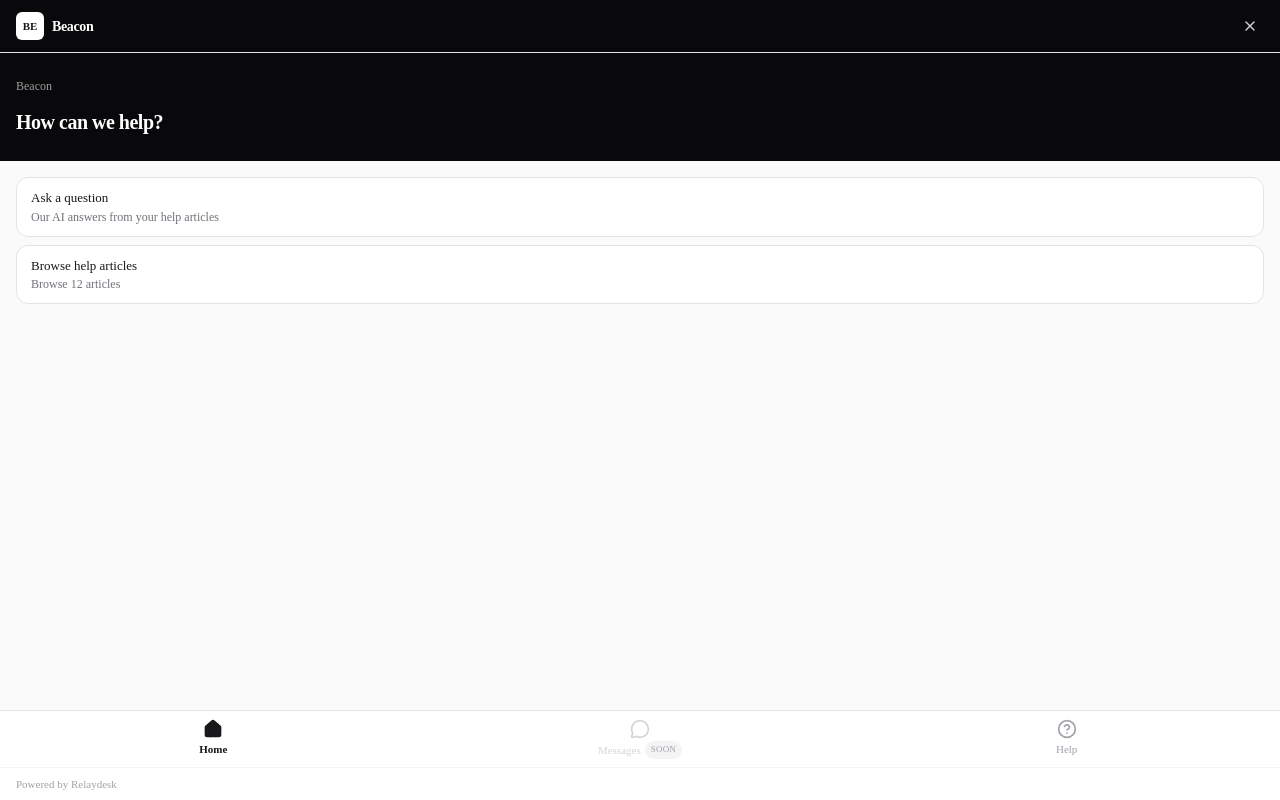
Test case: the panel's Home screen › shows Ask a question once back on Home, when AI is configured
Step 1. Click the button "Ask a question Our AI answers from your help articles" → [70, 198], box [16,177,1264,236]
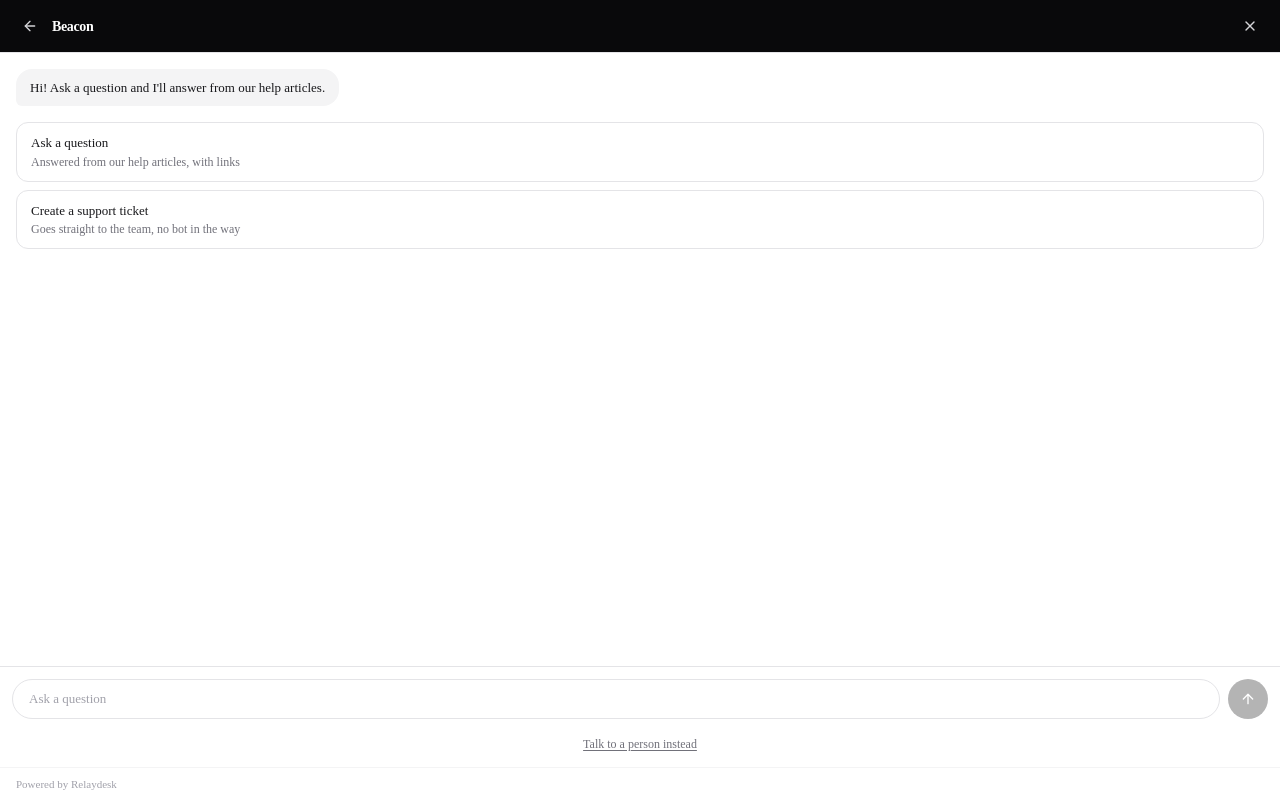
Step 2. Type "Hi" into the field with placeholder "Ask a question" → [616, 698], box [12,678,1220,718]
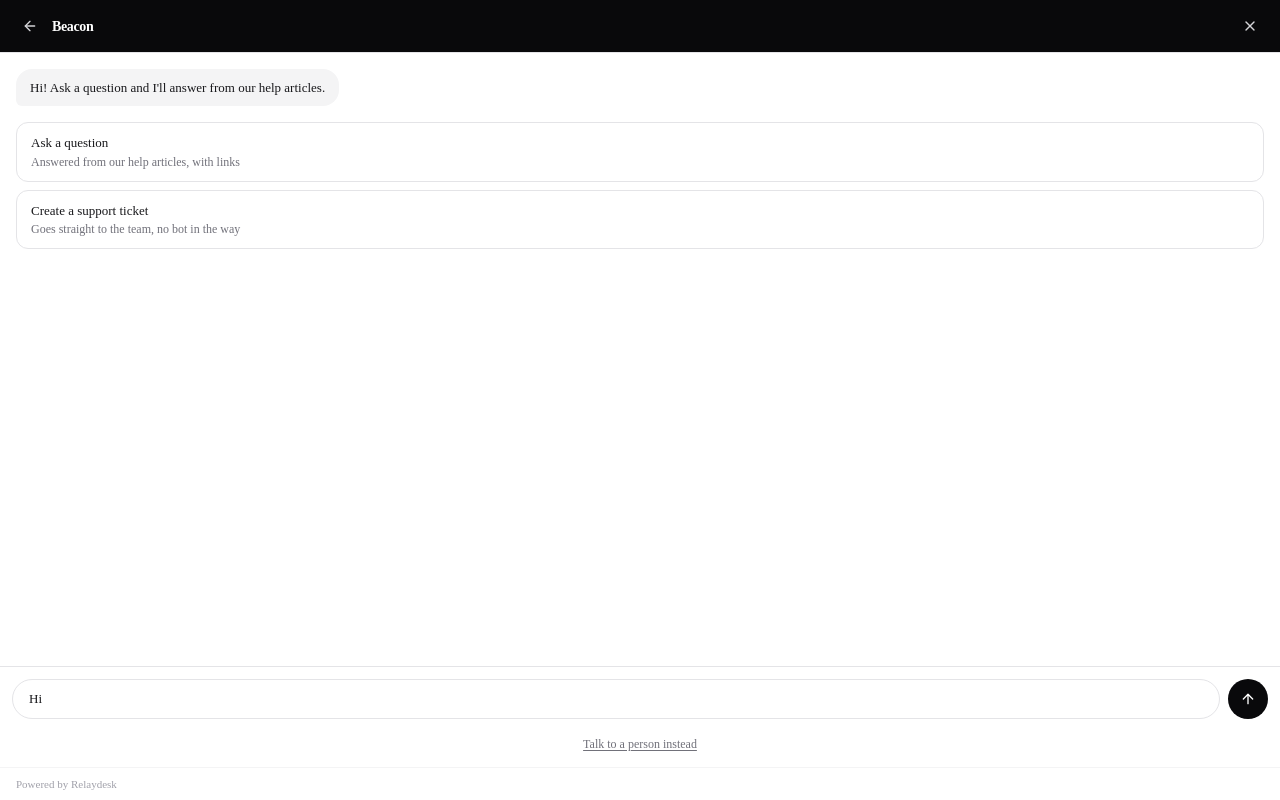
Step 3. Click the button named "Ask" → [1248, 698], box [1228,678,1268,718]
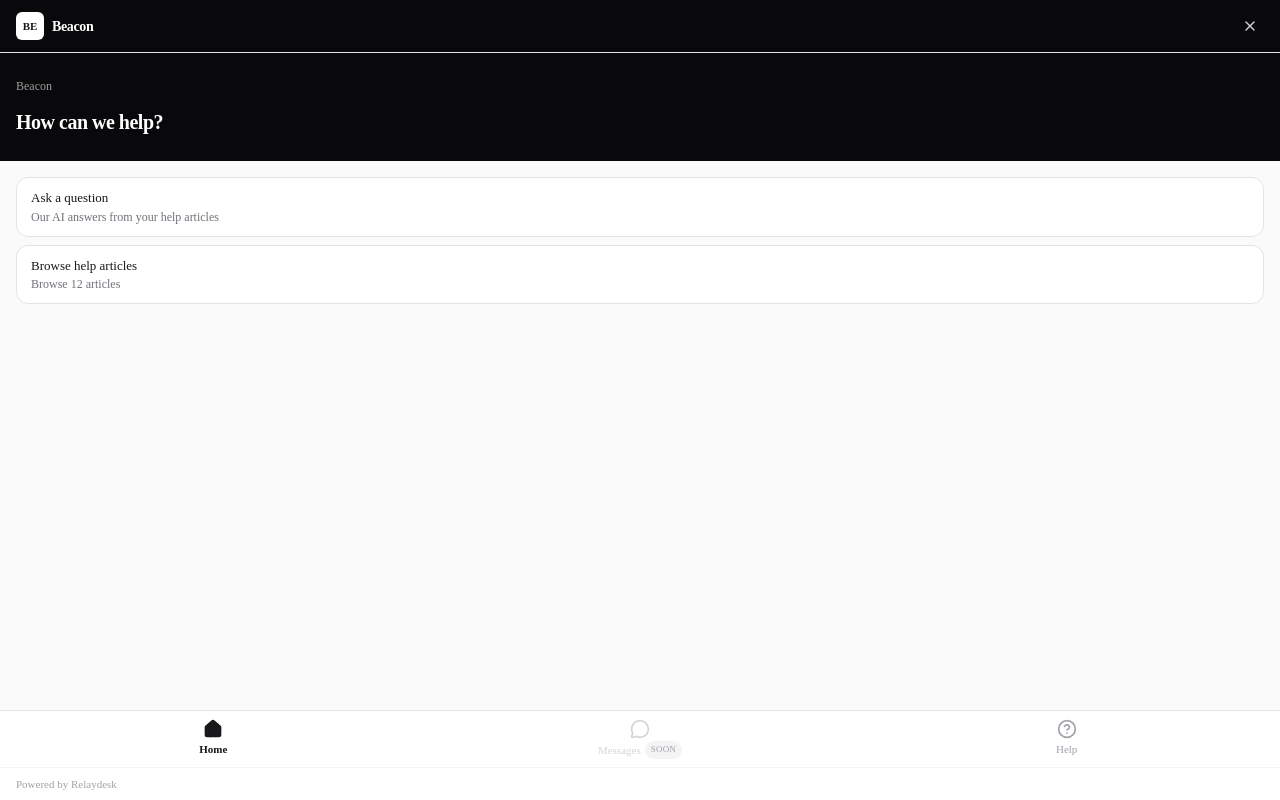
Step 4. Click the button "Ask a question Our AI answers from your help articles" → [70, 198], box [16,177,1264,236]
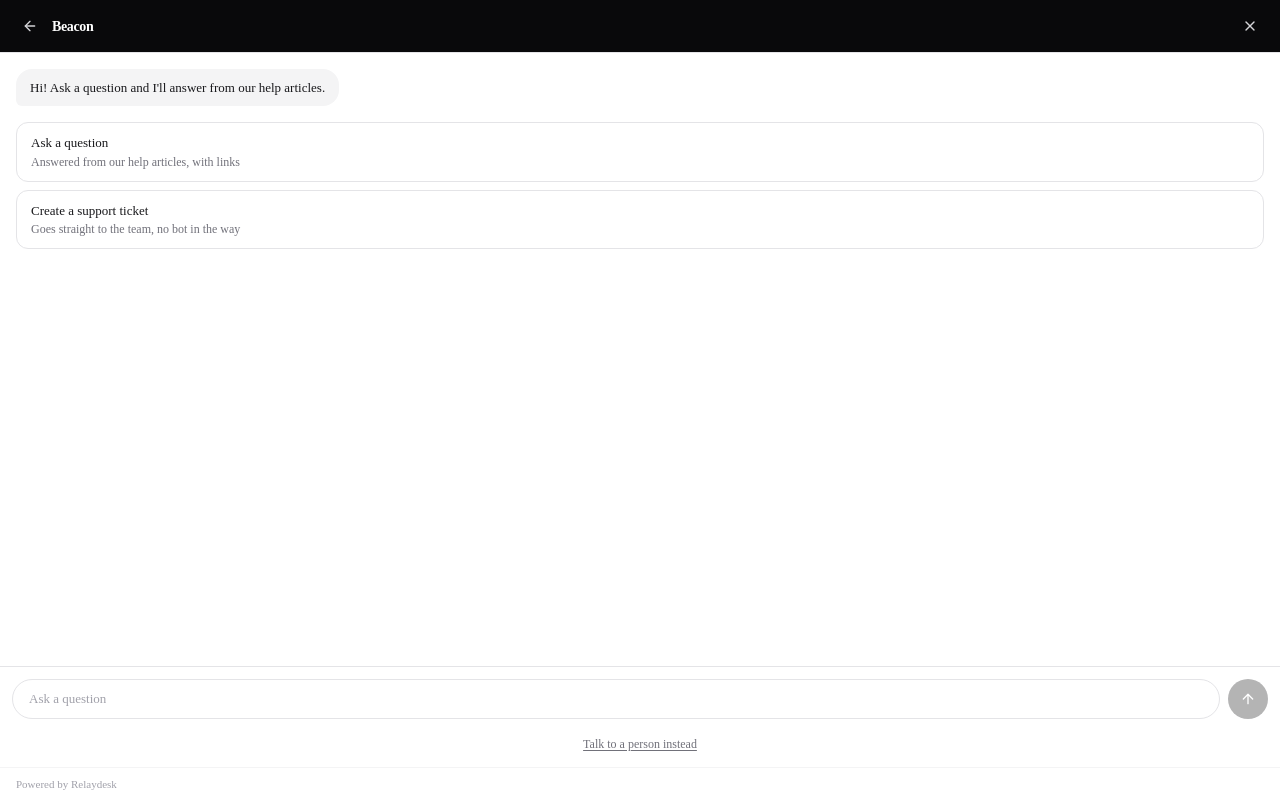
expect the field with placeholder "Ask a question" is shown: met, box [12,678,1220,718]
